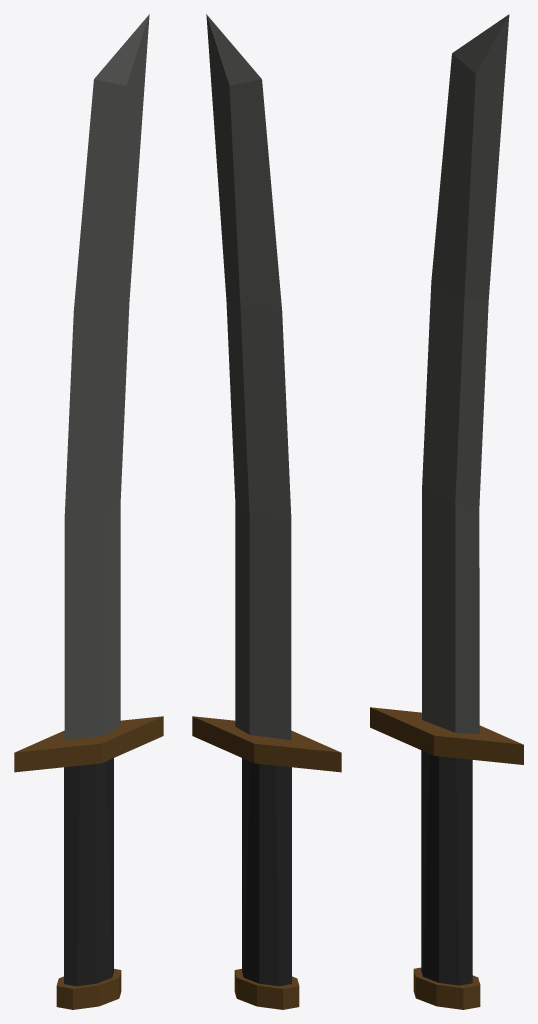
File: 3 katana.fbx
The picture shows the model from 3 angles, left to right: view 1: azimuth 30°, elevation 25°; view 2: azimuth 150°, elevation 25°; view 3: azimuth 330°, elevation 25°; orthographic projection. The views are drawn at different scales.
Visible parts, largest first — view 1: Knife, rukoyat; view 2: Knife, rukoyat; view 3: Knife, rukoyat.
Part boxes in pixels (x1,y1,x2,y2): Knife: (64,14,149,740); rukoyat: (14,716,163,1009); Knife: (206,14,291,740); rukoyat: (192,716,341,1009); Knife: (422,14,509,733); rukoyat: (370,707,523,1009).
Bounding box in the file's own units: 395 × 2452 × 116.
